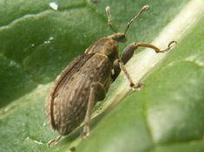weevils: (23, 0, 194, 152)
